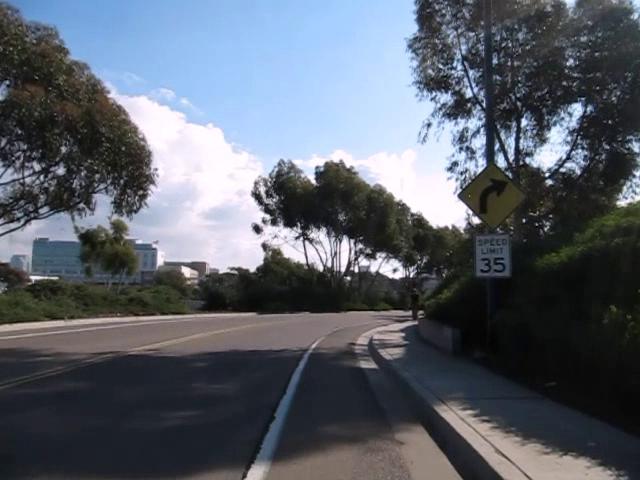speedLimit35: (474, 233, 511, 277)
